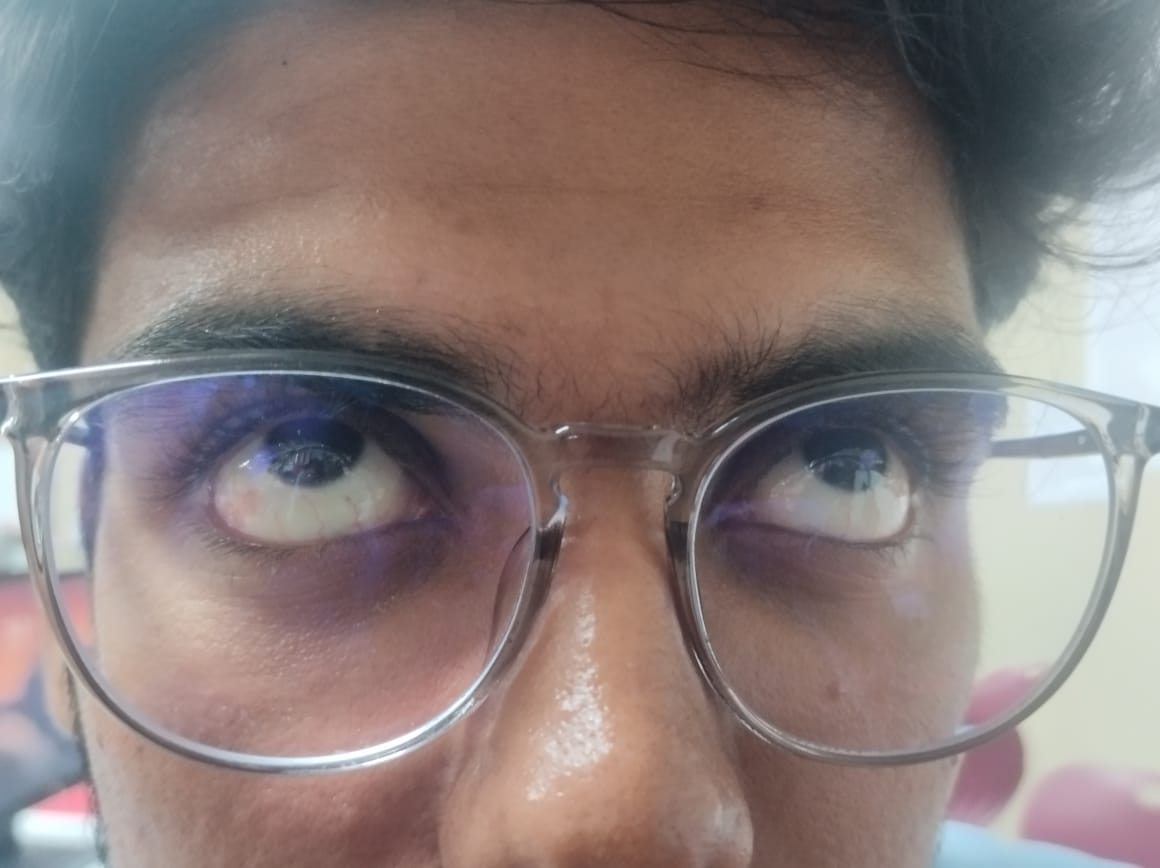EYE UP: (20, 314, 586, 738), (651, 312, 1116, 750)
